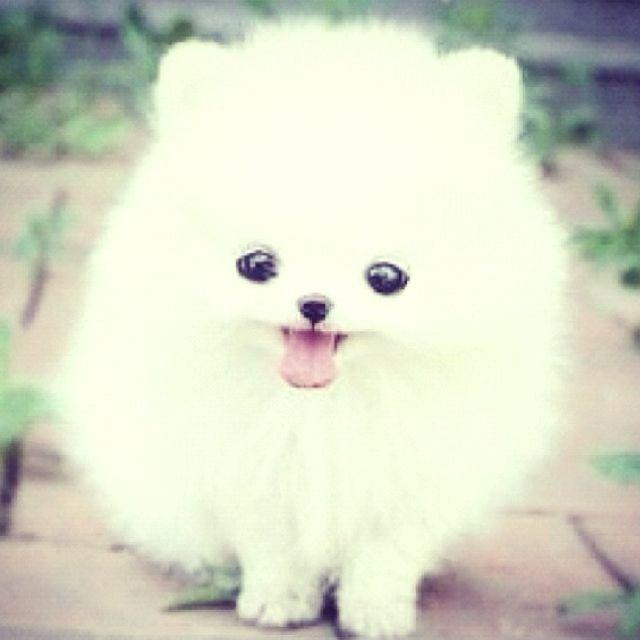puppy-dog: (53, 21, 589, 640)
